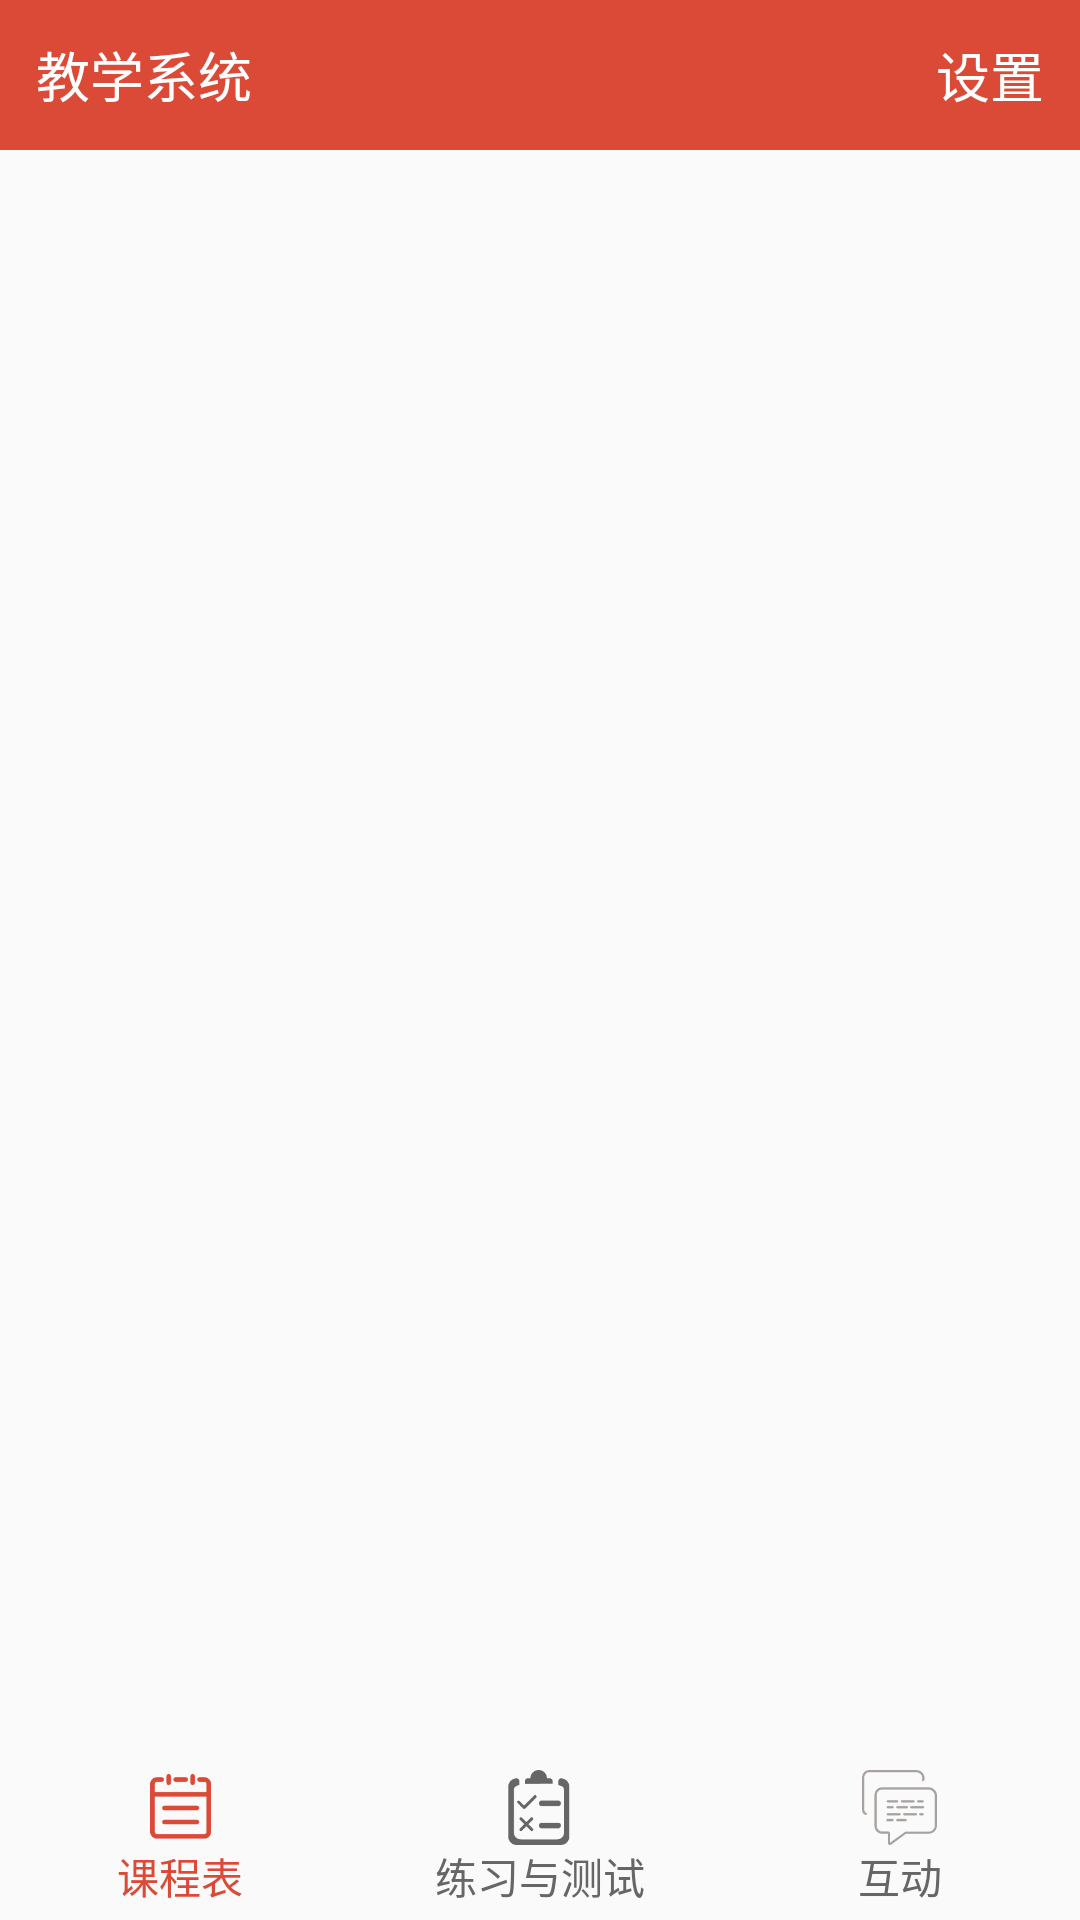

Icon click points for this 1080 x 1920 phone screenshot, format (x=x, y=y):
chat: (x=899, y=1807)
